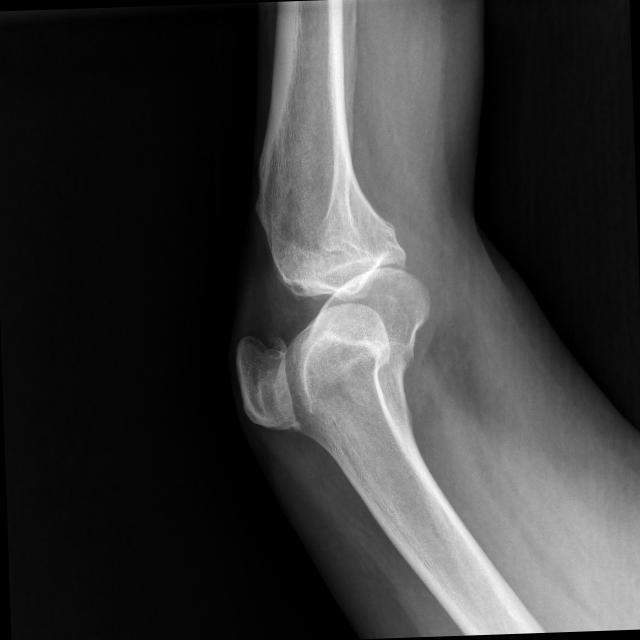Knee: (230, 205, 441, 432)
